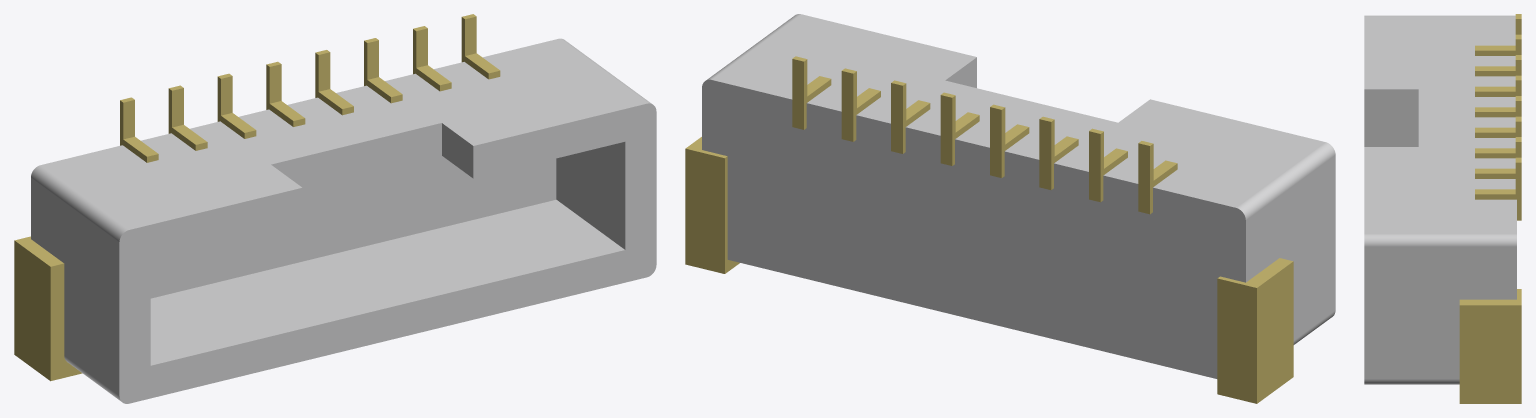
The model's file is jst_gh_8pin.glb.
3 renders of one model, left to right at view 1: azimuth 30°, elevation 25°; view 2: azimuth 150°, elevation 25°; view 3: azimuth 270°, elevation 25°, orthographic. The views are drawn at different scales.
Visible parts, largest first — view 1: world; view 2: world; view 3: world.
Part boxes in pixels (x1,y1,x2,y2): world: [14, 14, 656, 403]; world: [685, 14, 1335, 403]; world: [1364, 14, 1521, 403].
Bounding box in the file's own units: 14.45 × 5.6 × 4.05.
